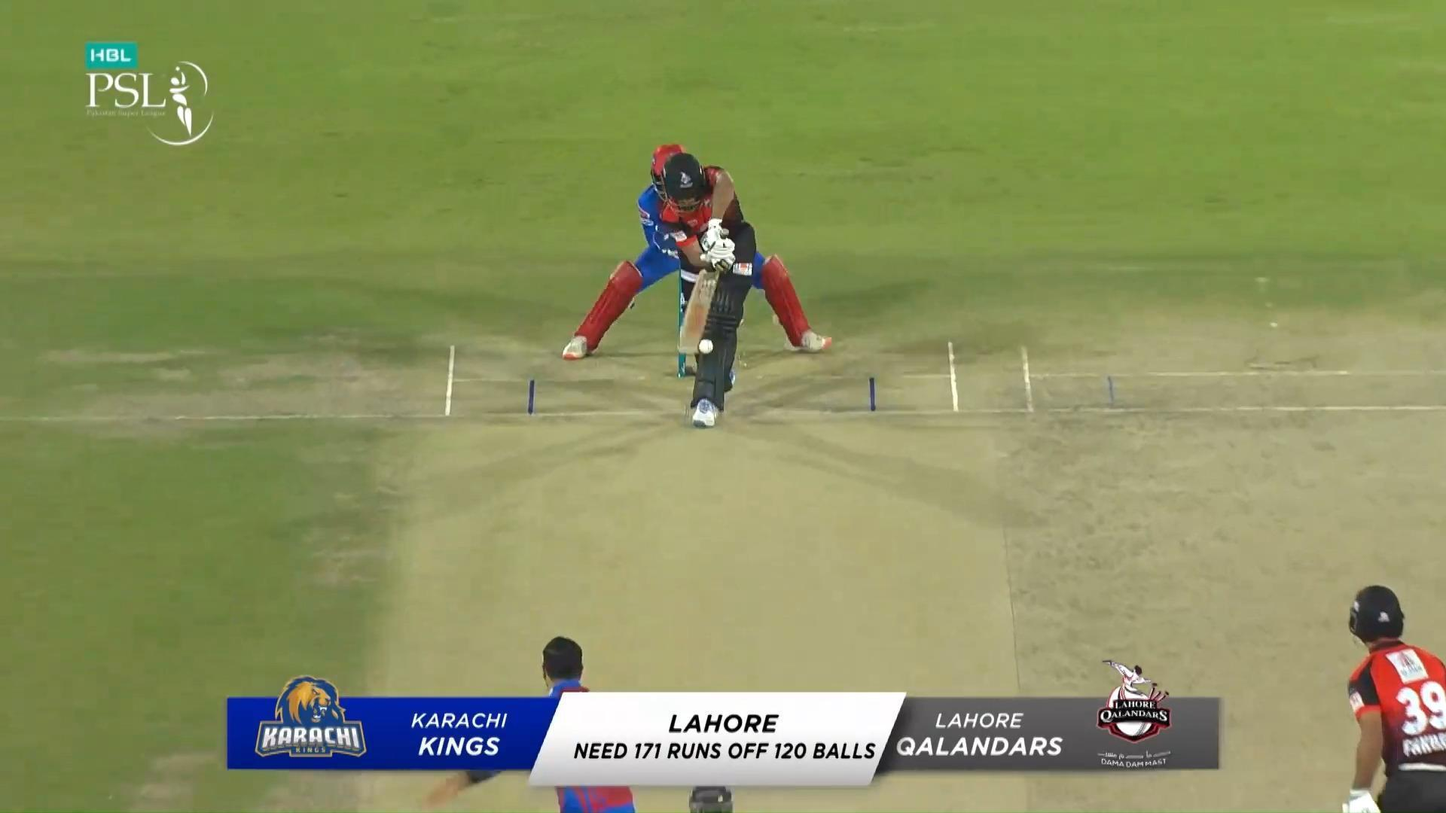BM 1: (660, 153, 757, 428)
BO: (423, 633, 634, 813)
